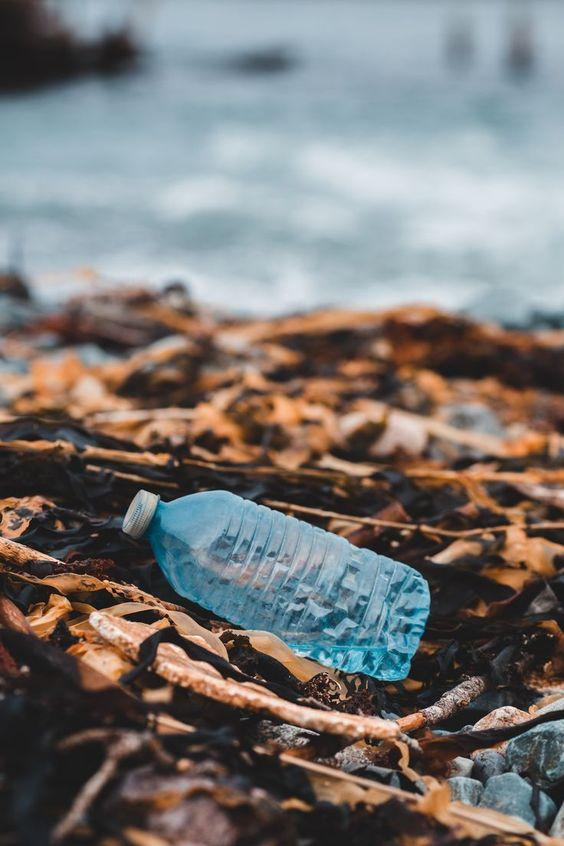HDPE: (117, 486, 164, 539)
PETE: (155, 489, 432, 681)
